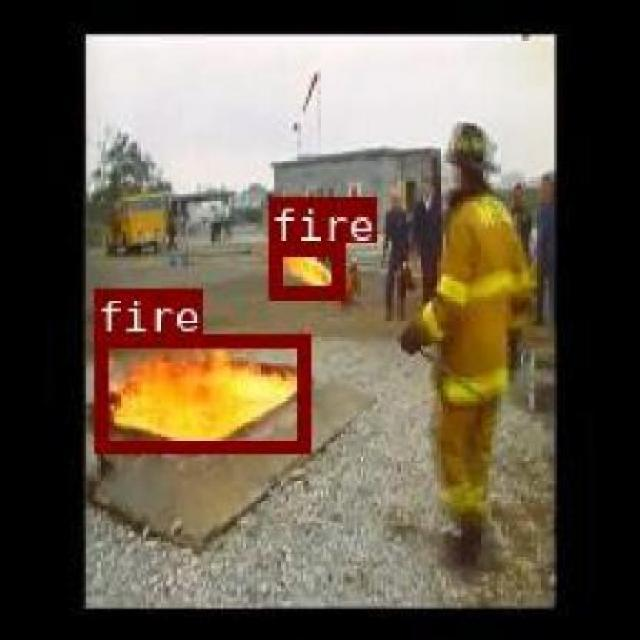Fire: (92, 332, 308, 450), (267, 241, 341, 296)
